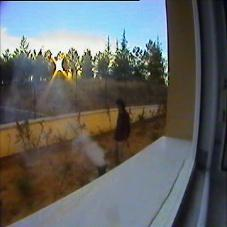smoke: (74, 128, 106, 166)
